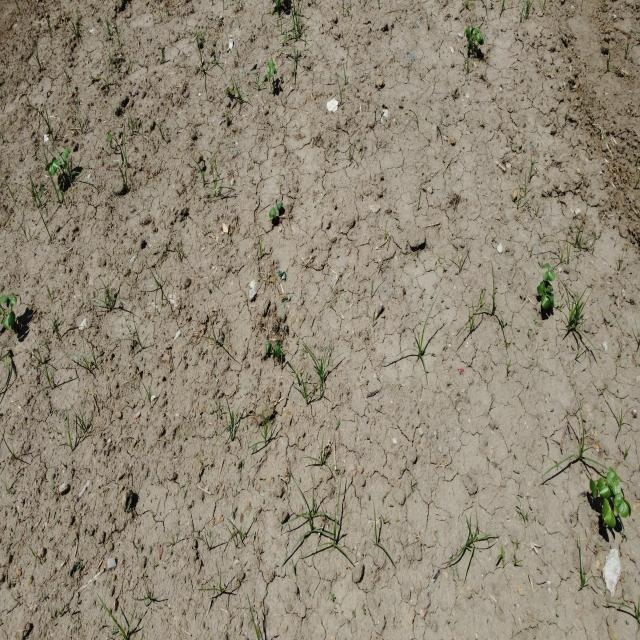seedling: (603, 498, 616, 527), (607, 471, 621, 496), (615, 493, 629, 517), (598, 477, 611, 499), (3, 311, 15, 328), (589, 479, 598, 498), (49, 160, 60, 175), (545, 291, 554, 307), (541, 295, 550, 309), (543, 271, 555, 281), (537, 282, 546, 295), (271, 57, 277, 74), (62, 149, 70, 158), (269, 60, 273, 78), (0, 295, 8, 304), (10, 297, 17, 307), (266, 343, 272, 354), (275, 347, 281, 358), (466, 26, 471, 38), (467, 39, 473, 49), (475, 33, 481, 43), (542, 263, 551, 269), (271, 208, 276, 218), (473, 27, 479, 35), (276, 201, 281, 210), (61, 161, 66, 169), (547, 286, 553, 292), (267, 71, 270, 81)
